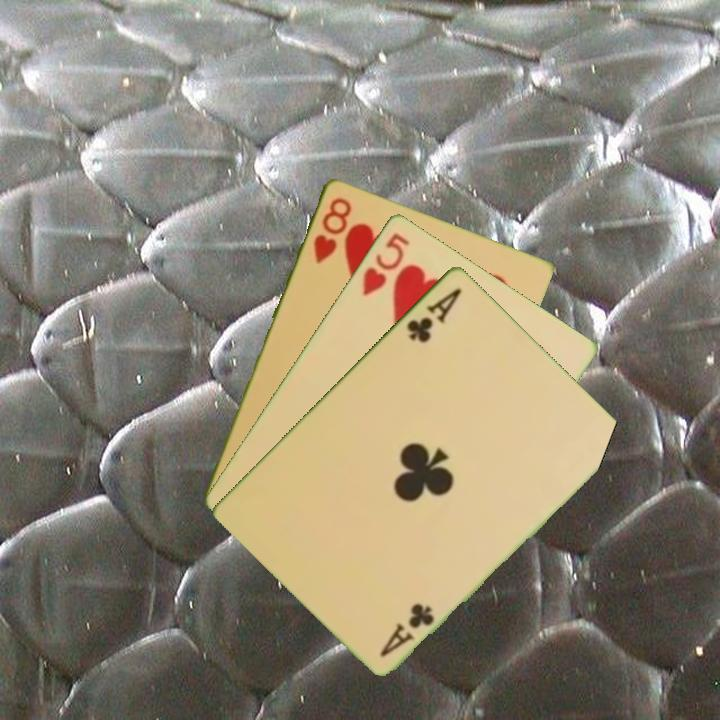5h: (358, 228, 413, 299)
8h: (309, 193, 354, 266)
Ac: (403, 283, 465, 345), (376, 598, 438, 659)
